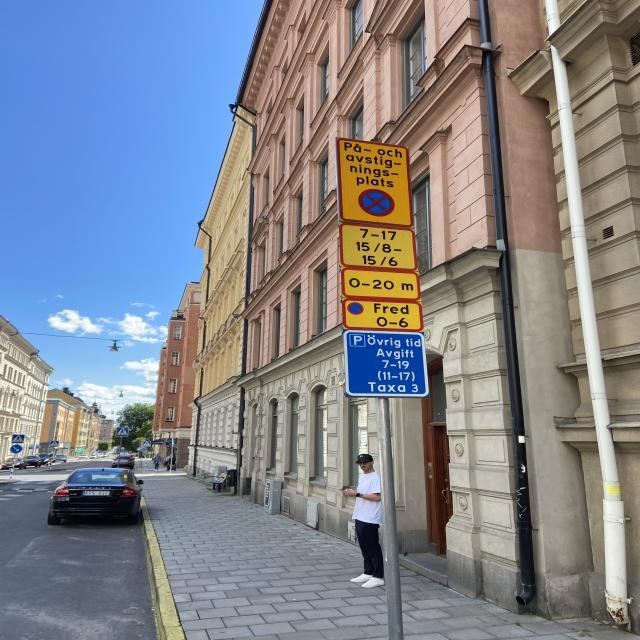avstignnigsplats: (333, 136, 414, 228)
